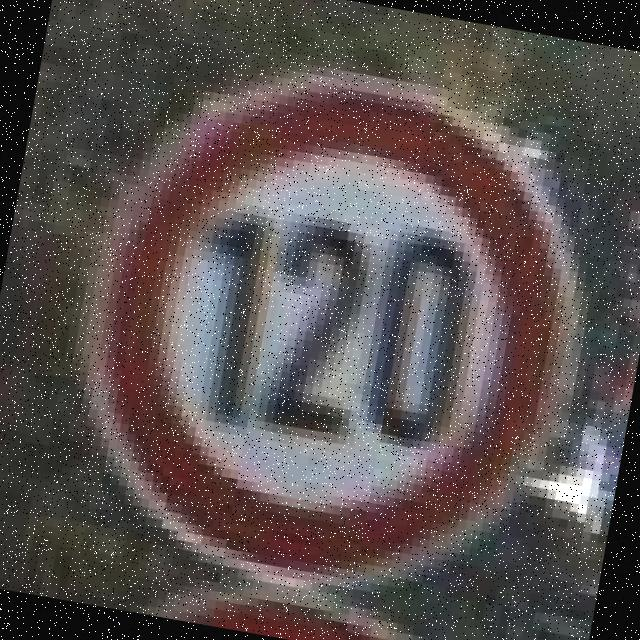Ograniczenie predkosci do 120: (15, 11, 632, 630)
